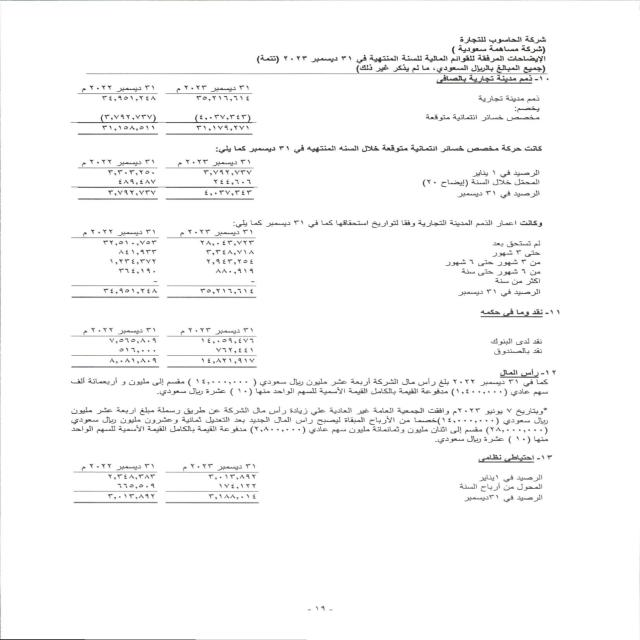notes: (423, 53, 547, 63)
table: (61, 225, 264, 308), (35, 456, 274, 520), (46, 315, 274, 374), (66, 82, 258, 147), (48, 157, 263, 207)
